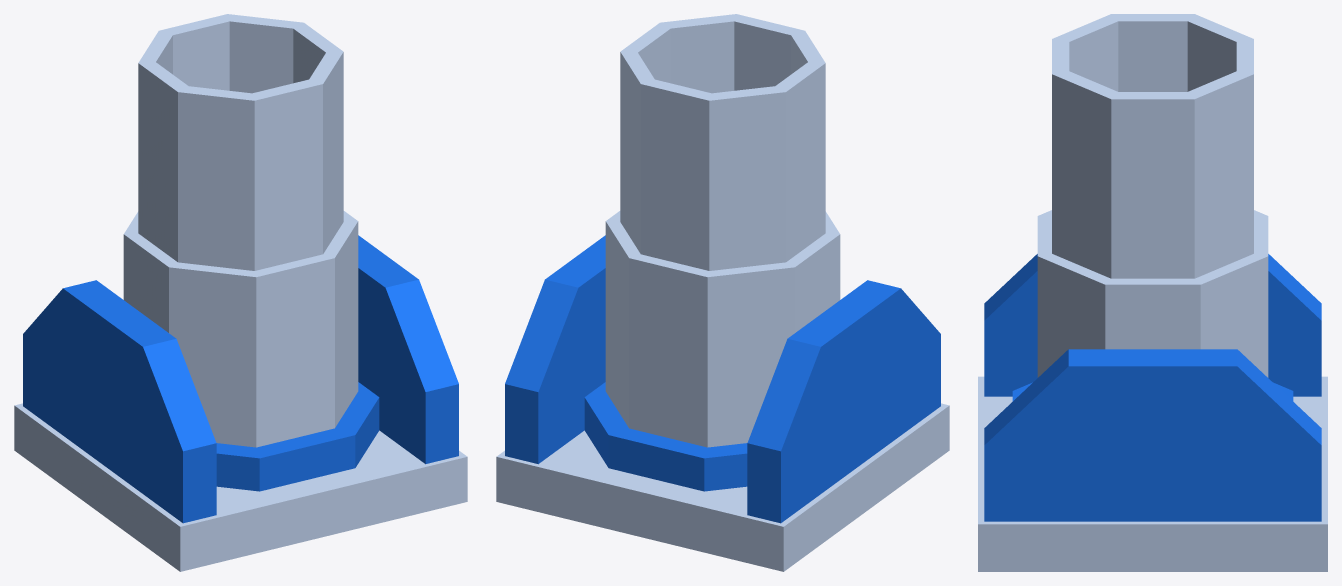
The model's file is Mortar_1.fbx.
The picture shows the model from 3 angles, left to right: view 1: azimuth 30°, elevation 25°; view 2: azimuth 150°, elevation 25°; view 3: azimuth 270°, elevation 25°; orthographic projection. The views are drawn at different scales.
Parts seen in each view (by area): view 1: MortarCannon1, MortarBase1; view 2: MortarCannon1, MortarBase1; view 3: MortarBase1, MortarCannon1.
Boxes of the visible parts, box(x1,y1,x2,y2) form: MortarCannon1: box(123, 14, 358, 447); MortarBase1: box(14, 235, 467, 571); MortarCannon1: box(605, 14, 840, 447); MortarBase1: box(496, 235, 949, 571); MortarBase1: box(978, 254, 1327, 571); MortarCannon1: box(1037, 14, 1268, 377).
Bounding box in the file's own units: 20 × 27.86 × 20.
1 material, 1 textured.
